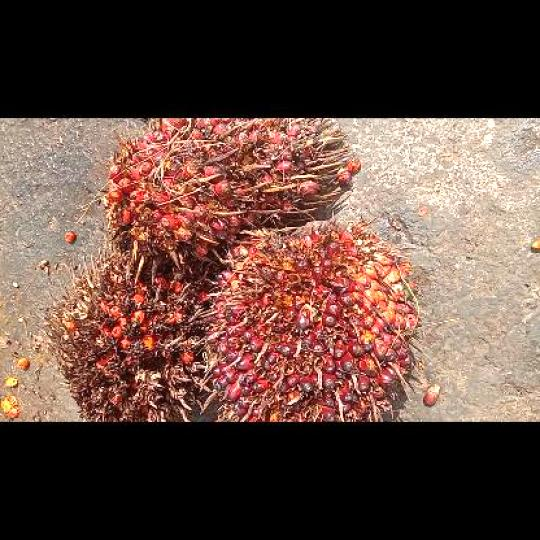masak: (194, 220, 421, 421), (102, 118, 347, 271)
terlalu masak: (38, 244, 214, 421)
